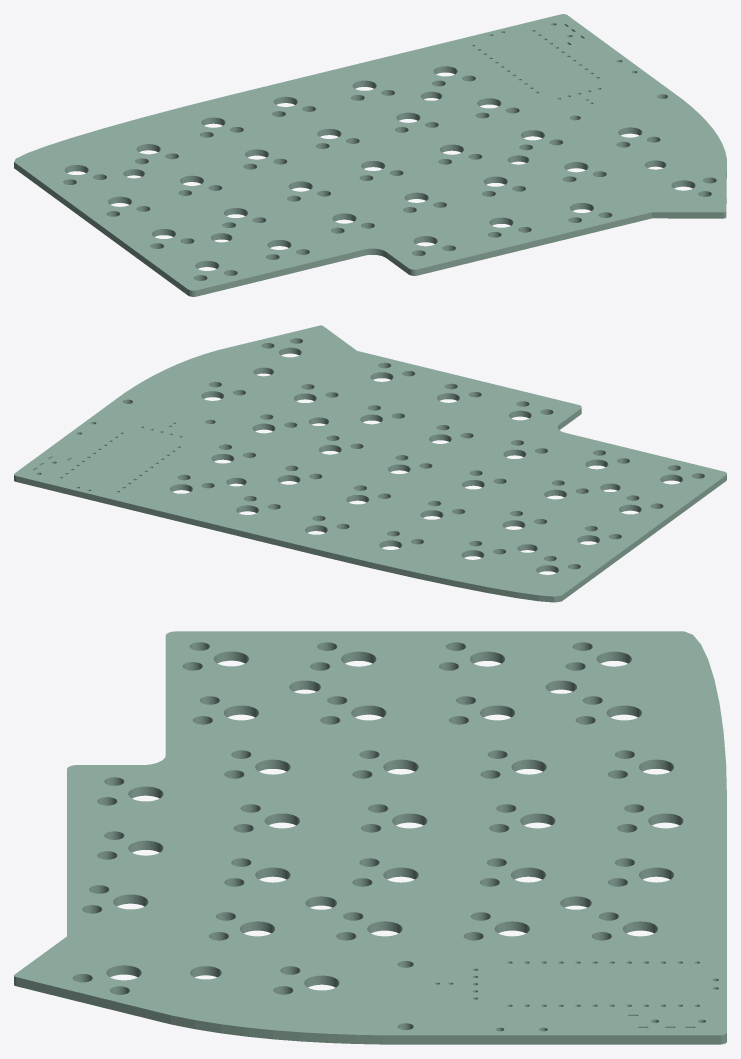
The model's file is left.gltf.
The picture shows the model from 3 angles, top to bottom: view 1: azimuth 30°, elevation 25°; view 2: azimuth 150°, elevation 25°; view 3: azimuth 270°, elevation 25°; orthographic projection. The views are drawn at different scales.
Parts seen in each view (by area): view 1: Node1; view 2: Node1; view 3: Node1.
Part boxes in pixels (left/top/right/bottom): Node1: left=14, top=14, right=726, bottom=296; Node1: left=14, top=325, right=726, bottom=602; Node1: left=14, top=631, right=726, bottom=1044.
Size of the model in its own units: 143 by 1.51 by 106.
